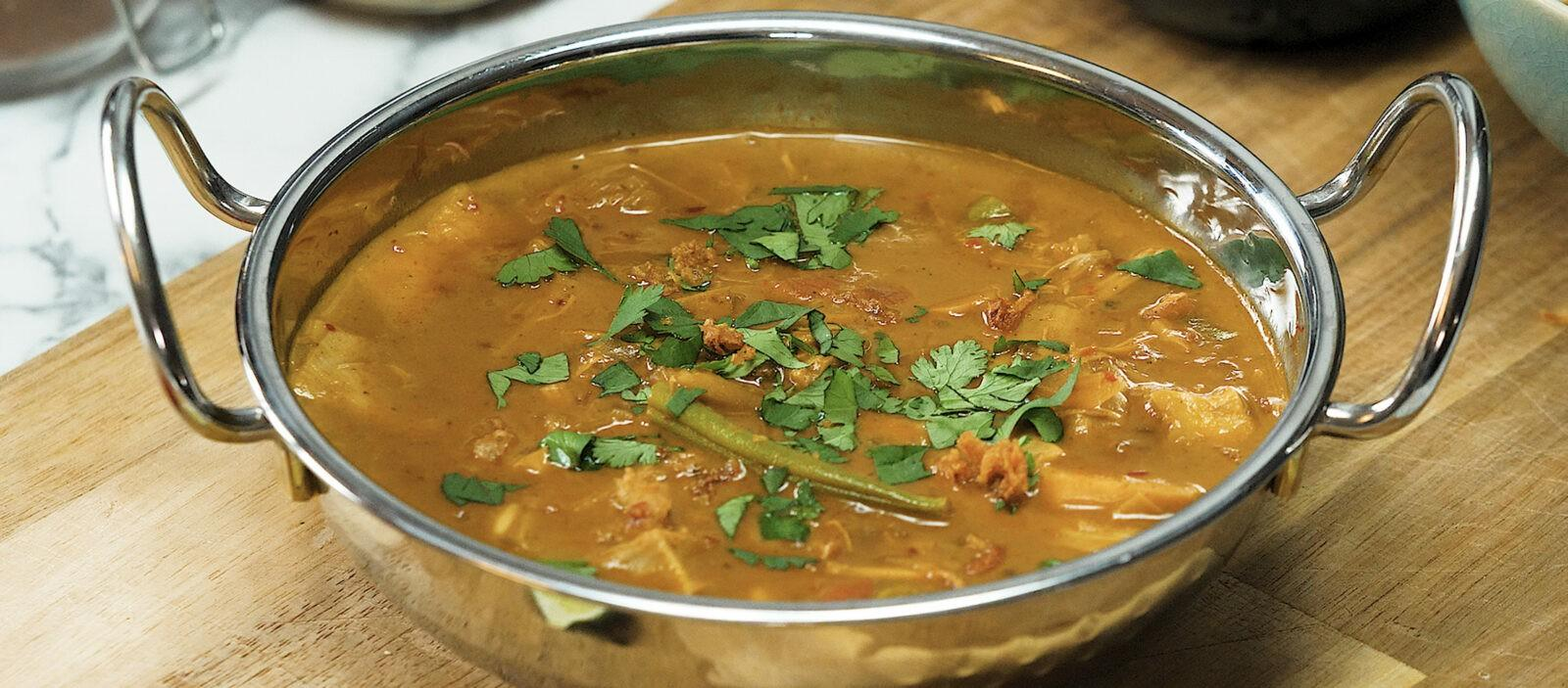FishCurry: (288, 133, 1280, 608)
